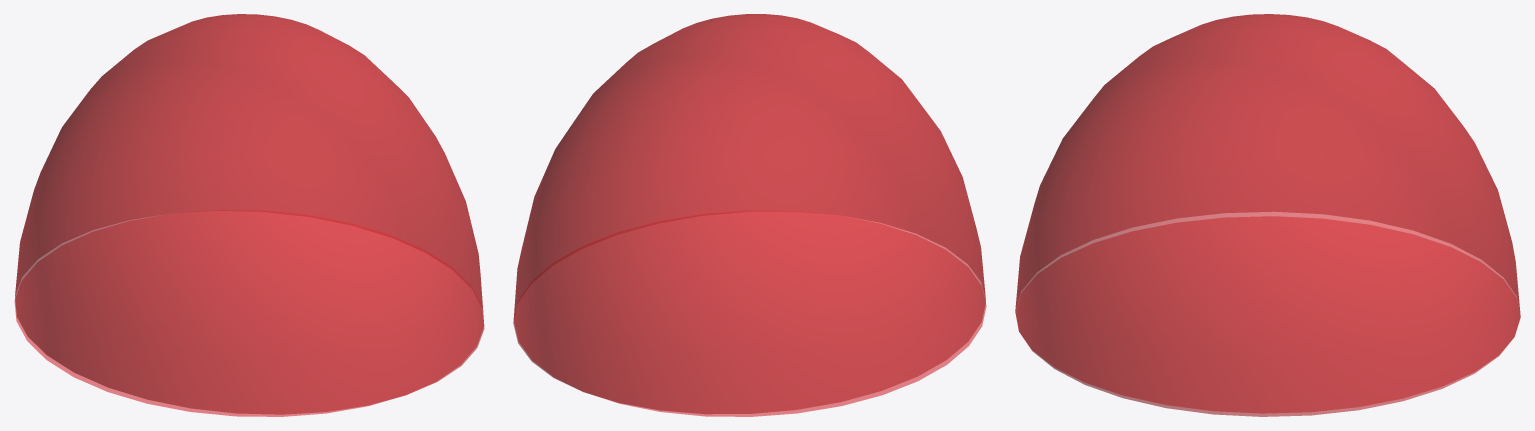
Rendered from redDOME_T2.glb.
3 renders of one model, left to right at view 1: azimuth 30°, elevation 25°; view 2: azimuth 150°, elevation 25°; view 3: azimuth 270°, elevation 25°, orthographic.
Parts seen in each view (by area): view 1: dome_t2; view 2: dome_t2; view 3: dome_t2.
Part boxes in pixels (x1=…): dome_t2: x1=14, y1=14, x2=484, y2=416; dome_t2: x1=513, y1=14, x2=986, y2=416; dome_t2: x1=1015, y1=14, x2=1520, y2=416.
Size of the model in its own units: 3.36 by 2.29 by 3.64.
